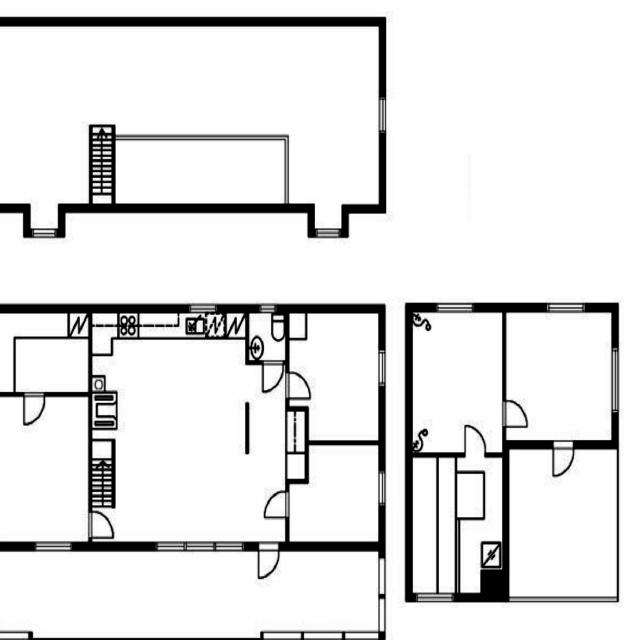door: (553, 440, 574, 475), (258, 542, 278, 577), (502, 401, 526, 427), (24, 392, 44, 423), (466, 427, 486, 458), (89, 512, 112, 538), (266, 493, 289, 517), (286, 373, 308, 398), (263, 361, 282, 389)
